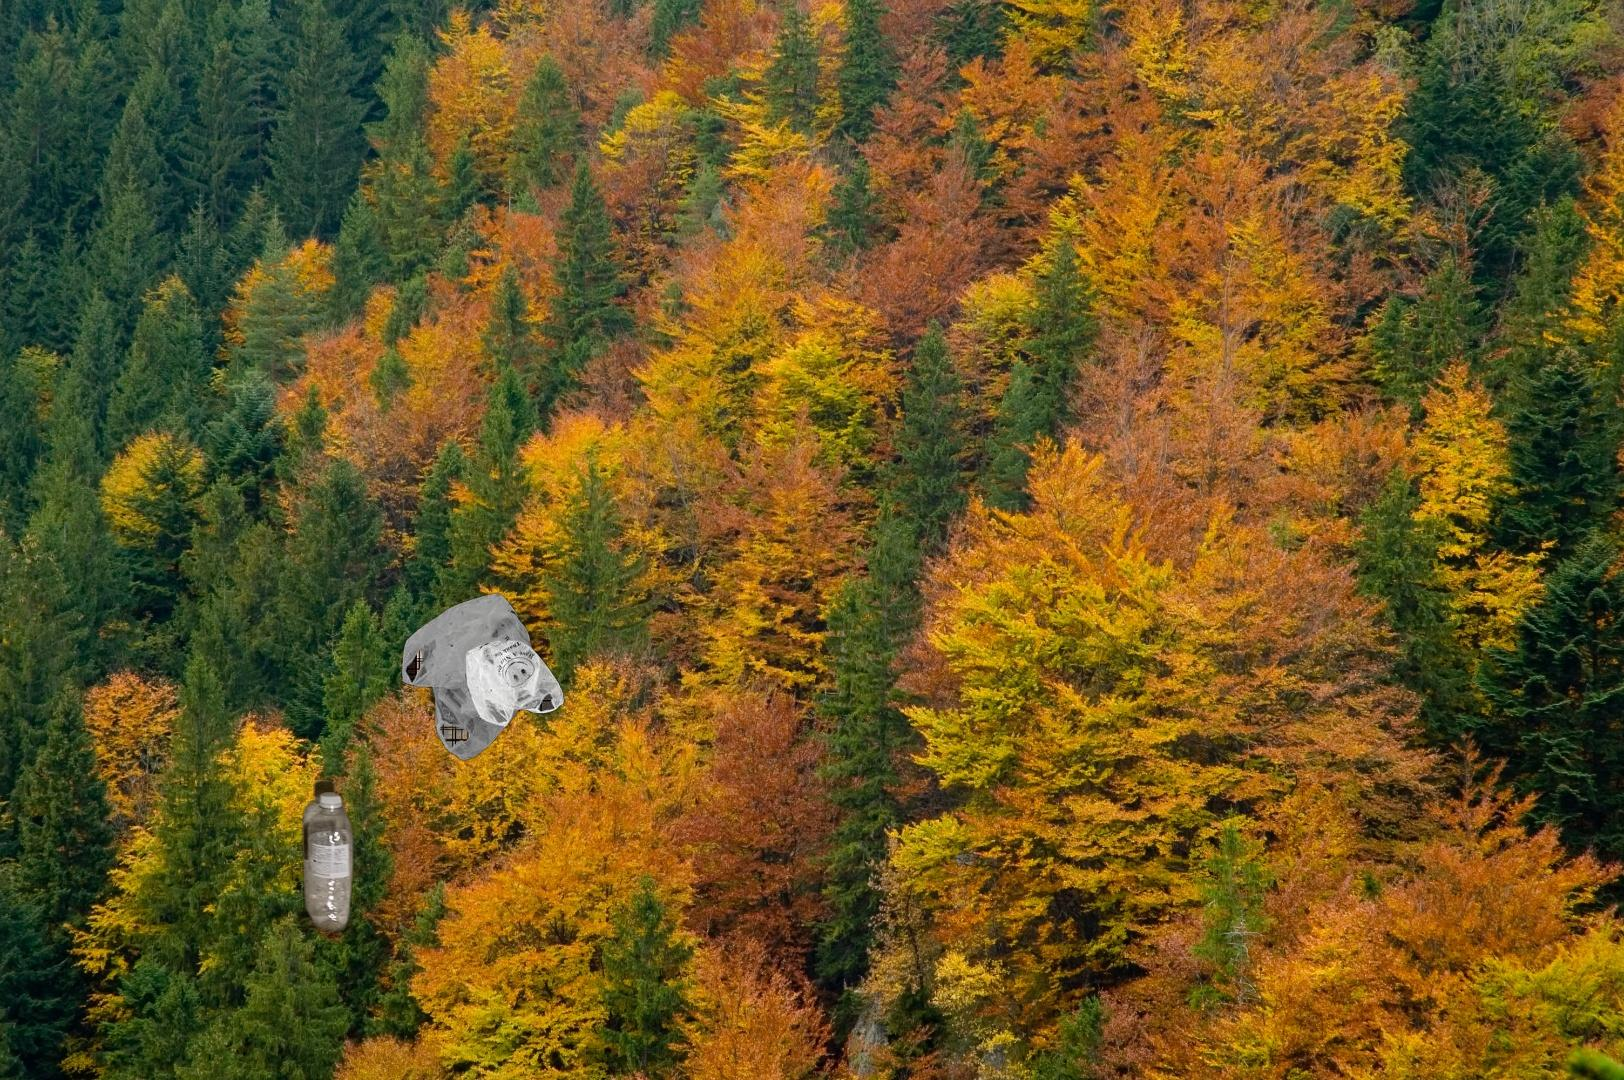plastic-bag: (400, 589, 565, 762)
plastic-bottles: (298, 774, 360, 939)
